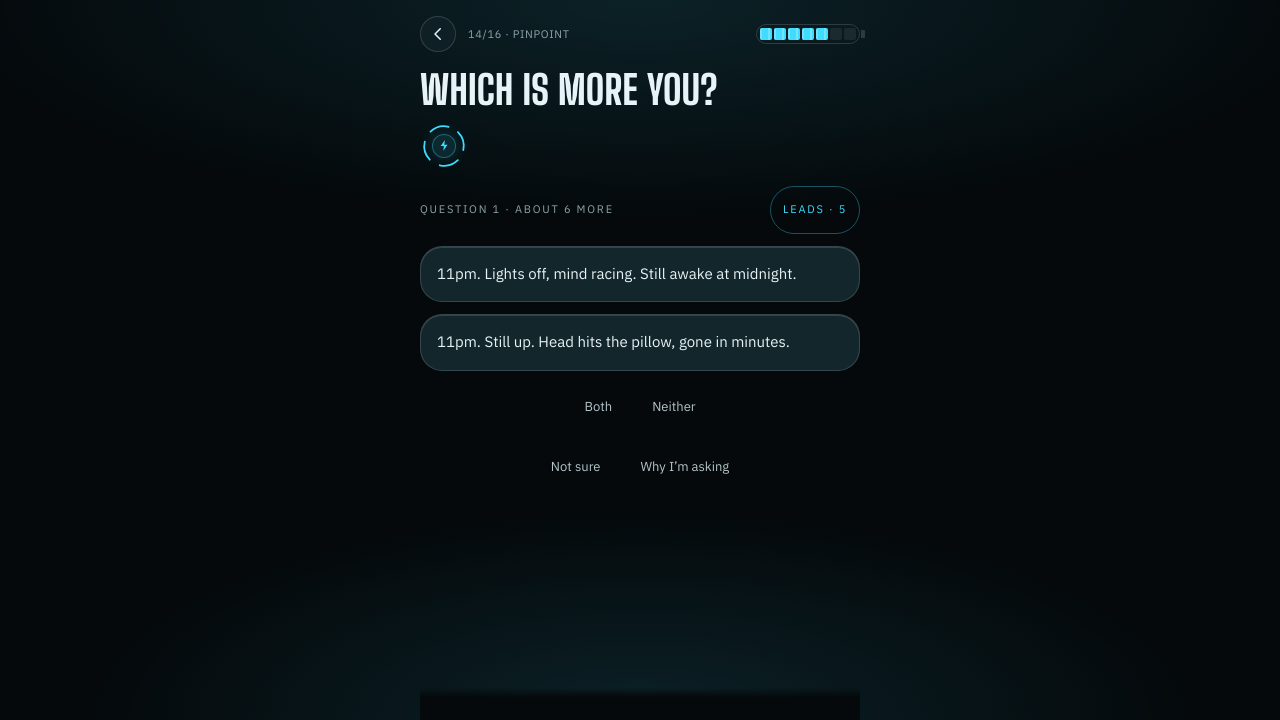
Scenario: the feel of it › says why it’s asking, in a line
Click the button "Why I’m asking": (685, 467) [628,443,741,491]
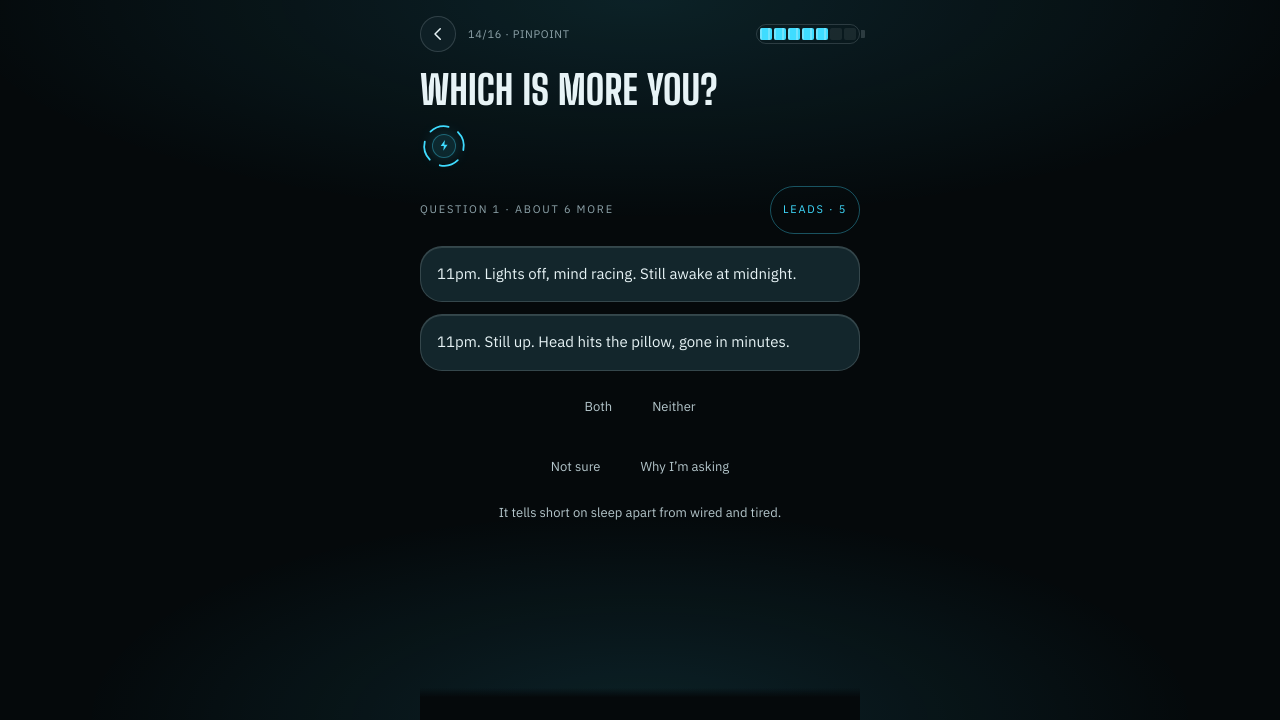
Expected: the text "It tells short on sleep apart from wired and tired." is shown, [499,504,781,521]
